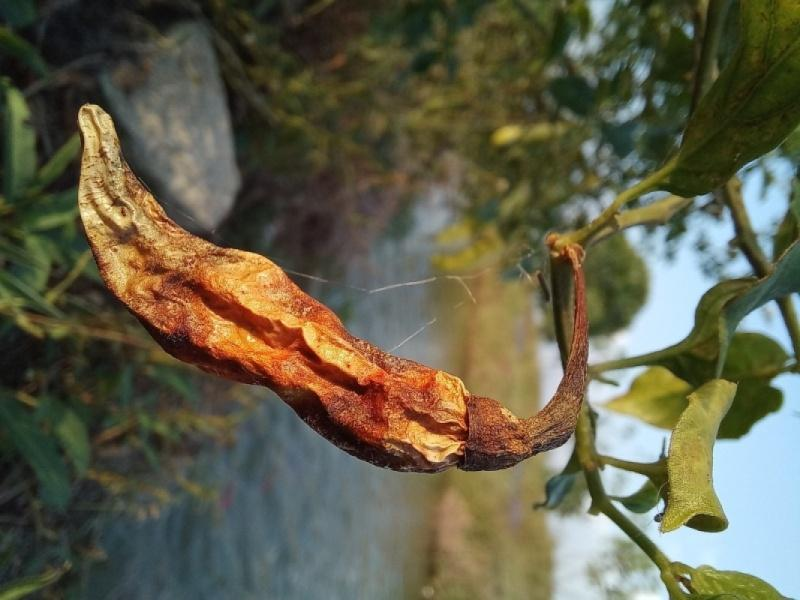antraknosa: (73, 101, 535, 475)
